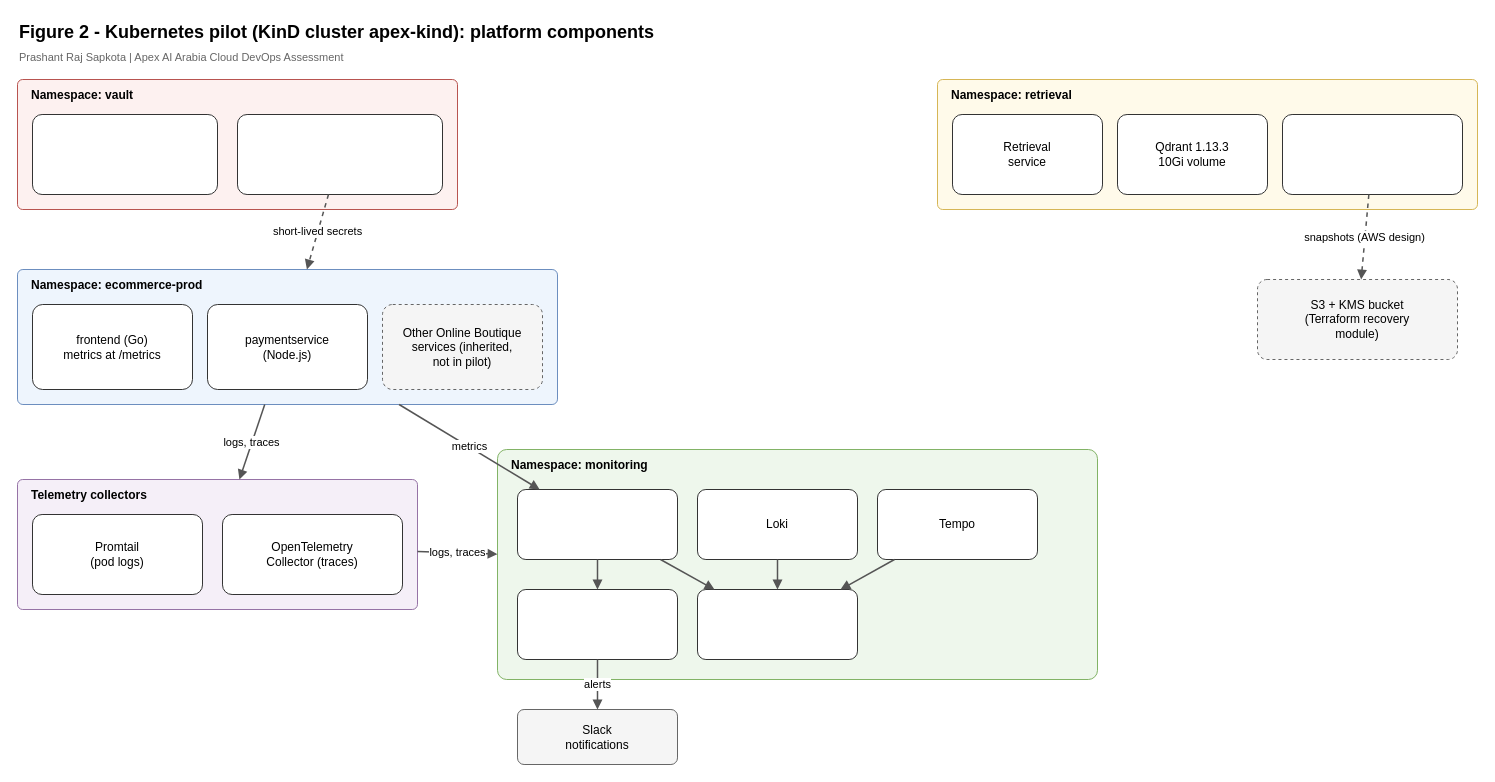
Image size: 1495x782. Some labels were removed from this diagram. Each missing label, with the centre of its shape:
Alertmanager: (x=597, y=624)
Grafana dashboards: (x=777, y=624)
Kubernetes auth role + policy per service KV v2 mount: secret/: (x=339, y=154)
Prometheus scrape + alert rules: (x=597, y=524)
qdrant-backup CronJob (daily 02:00): (x=1372, y=154)
Vault 3 nodes, Raft, TLS: (x=125, y=154)
